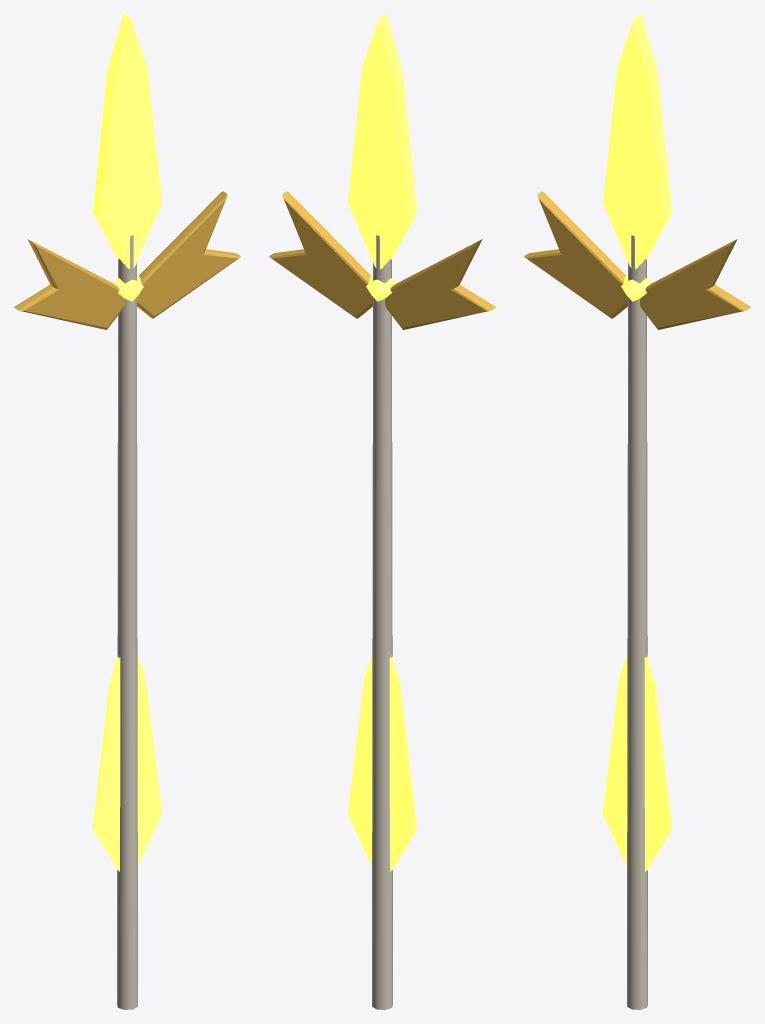
Rendered from spear_f3_6860cba5.glb.
The picture shows the model from 3 angles, left to right: view 1: azimuth 30°, elevation 25°; view 2: azimuth 150°, elevation 25°; view 3: azimuth 330°, elevation 25°; orthographic projection.
Parts seen in each view (by area): view 1: m0_ow80_, m2_gm130_, m4_ow80_, m1_gm110_; view 2: m0_ow80_, m2_gm130_, m4_ow80_, m1_gm110_; view 3: m0_ow80_, m2_gm130_, m4_ow80_, m1_gm110_.
Boxes of the visible parts, x1,y1,x2,y2 form: m0_ow80_: (117, 235, 137, 1009); m2_gm130_: (93, 14, 161, 268); m4_ow80_: (14, 191, 240, 329); m1_gm110_: (92, 655, 162, 871); m0_ow80_: (372, 235, 392, 1009); m2_gm130_: (348, 14, 416, 269); m4_ow80_: (269, 191, 495, 329); m1_gm110_: (347, 655, 417, 871); m0_ow80_: (627, 235, 647, 1009); m2_gm130_: (603, 14, 671, 269); m4_ow80_: (524, 191, 750, 329); m1_gm110_: (602, 655, 672, 871).
Bounding box in the file's own units: 0.9339 × 3.97 × 0.16.
